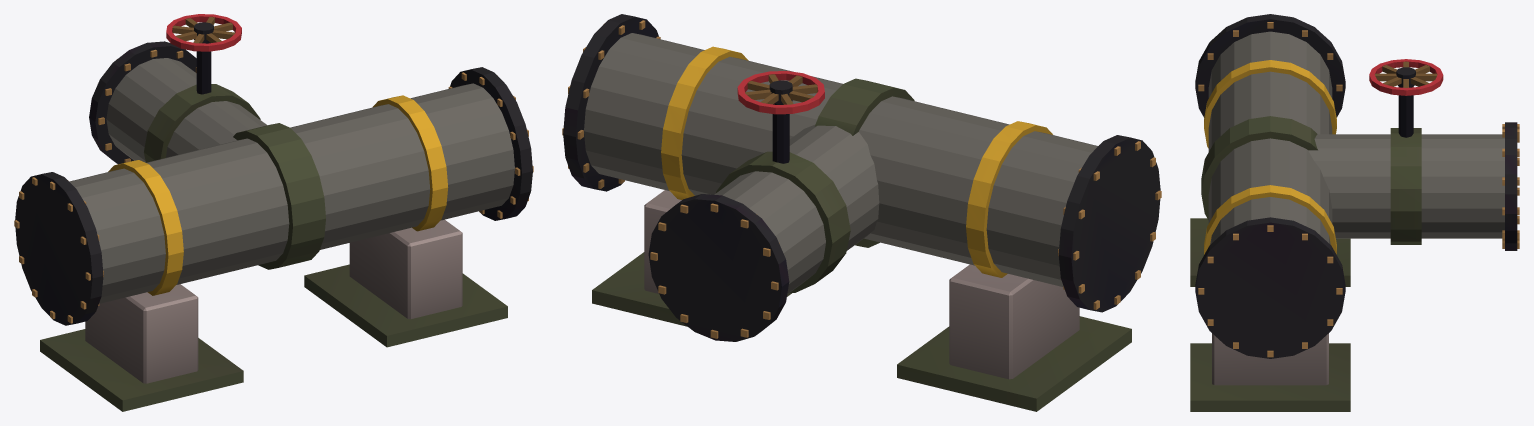
Rendered from kit.dispersal-pipe-tee.glb.
3 views of the same model, side by side, from view 1: azimuth 30°, elevation 25°; view 2: azimuth 150°, elevation 25°; view 3: azimuth 270°, elevation 25° (orthographic). The views are drawn at different scales.
Visible parts, largest first — view 1: body, object 2; view 2: body, object 2; view 3: body, object 2.
Part boxes in pixels (x1,y1,x2,y2): body: (14,41,533,411); object 2: (166,14,241,51); body: (562,14,1161,411); object 2: (737,71,824,114); body: (1190,14,1519,411); object 2: (1369,59,1443,95).
Size of the model in its own units: 8.08 by 4.46 by 5.34.
